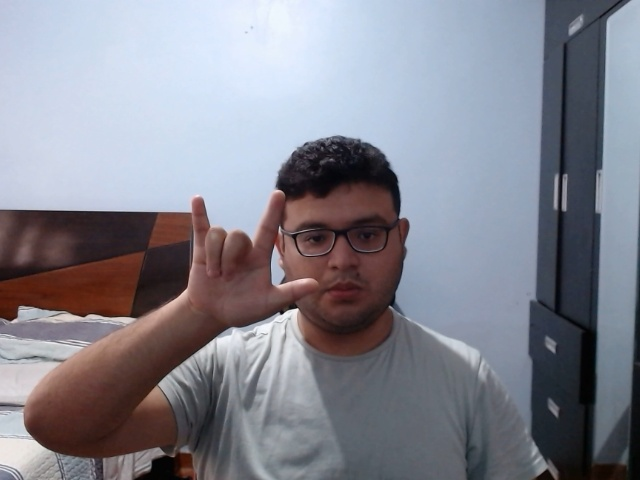I love you: (181, 184, 324, 335)
